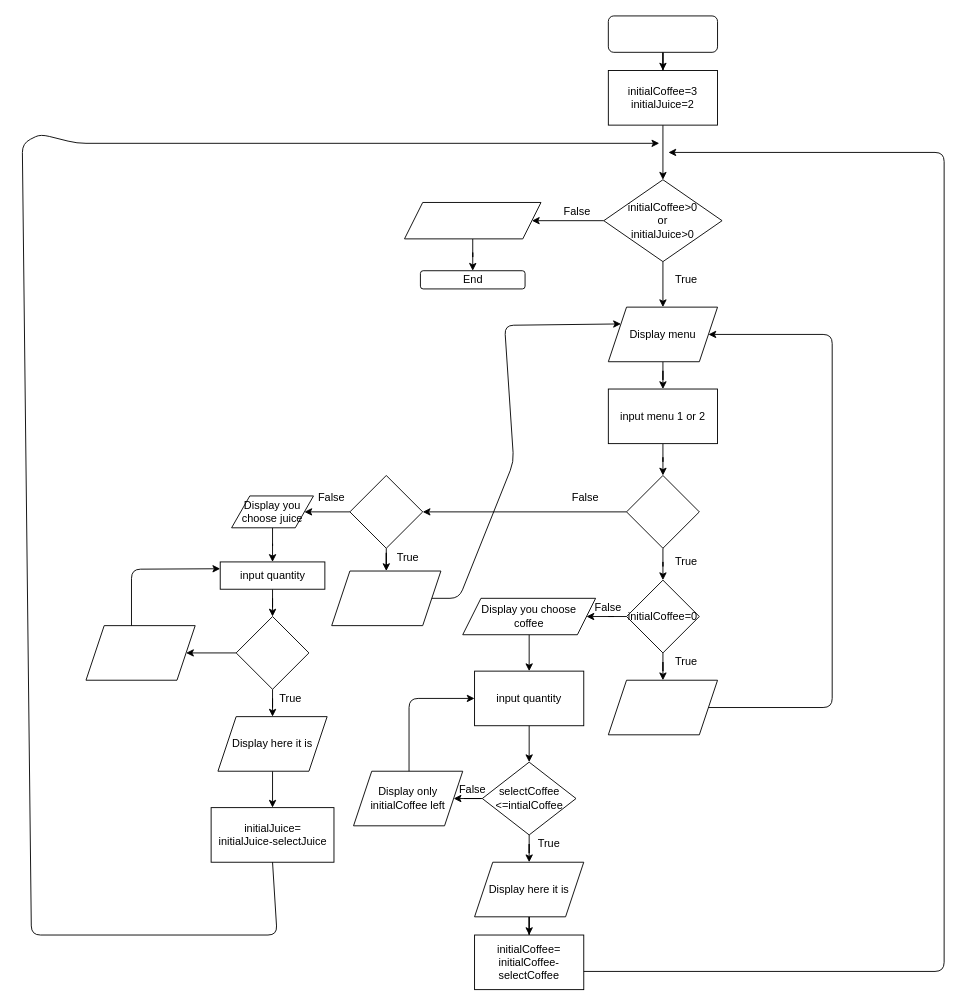
Image size: 967x1006. Some labels were removed from this diagram. Each missing label, with the box of its shape:
Display "All sold out": (404, 202, 541, 239)
Display no lefft: (331, 570, 441, 626)
Display no left: (607, 679, 718, 735)
Display only initialJuice left: (85, 625, 195, 680)
initialJuice=0: (349, 475, 423, 548)
menu==1: (626, 475, 699, 548)
selectJuice <=initialJuice: (235, 616, 309, 689)
Start: (607, 15, 718, 52)
